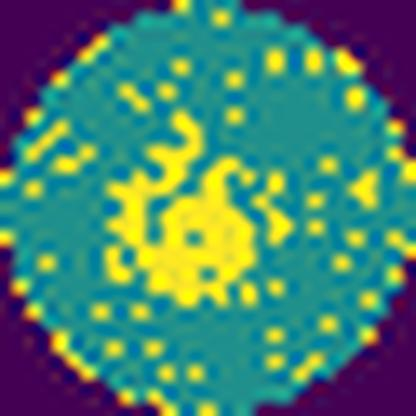Center: (108, 109, 256, 309)
